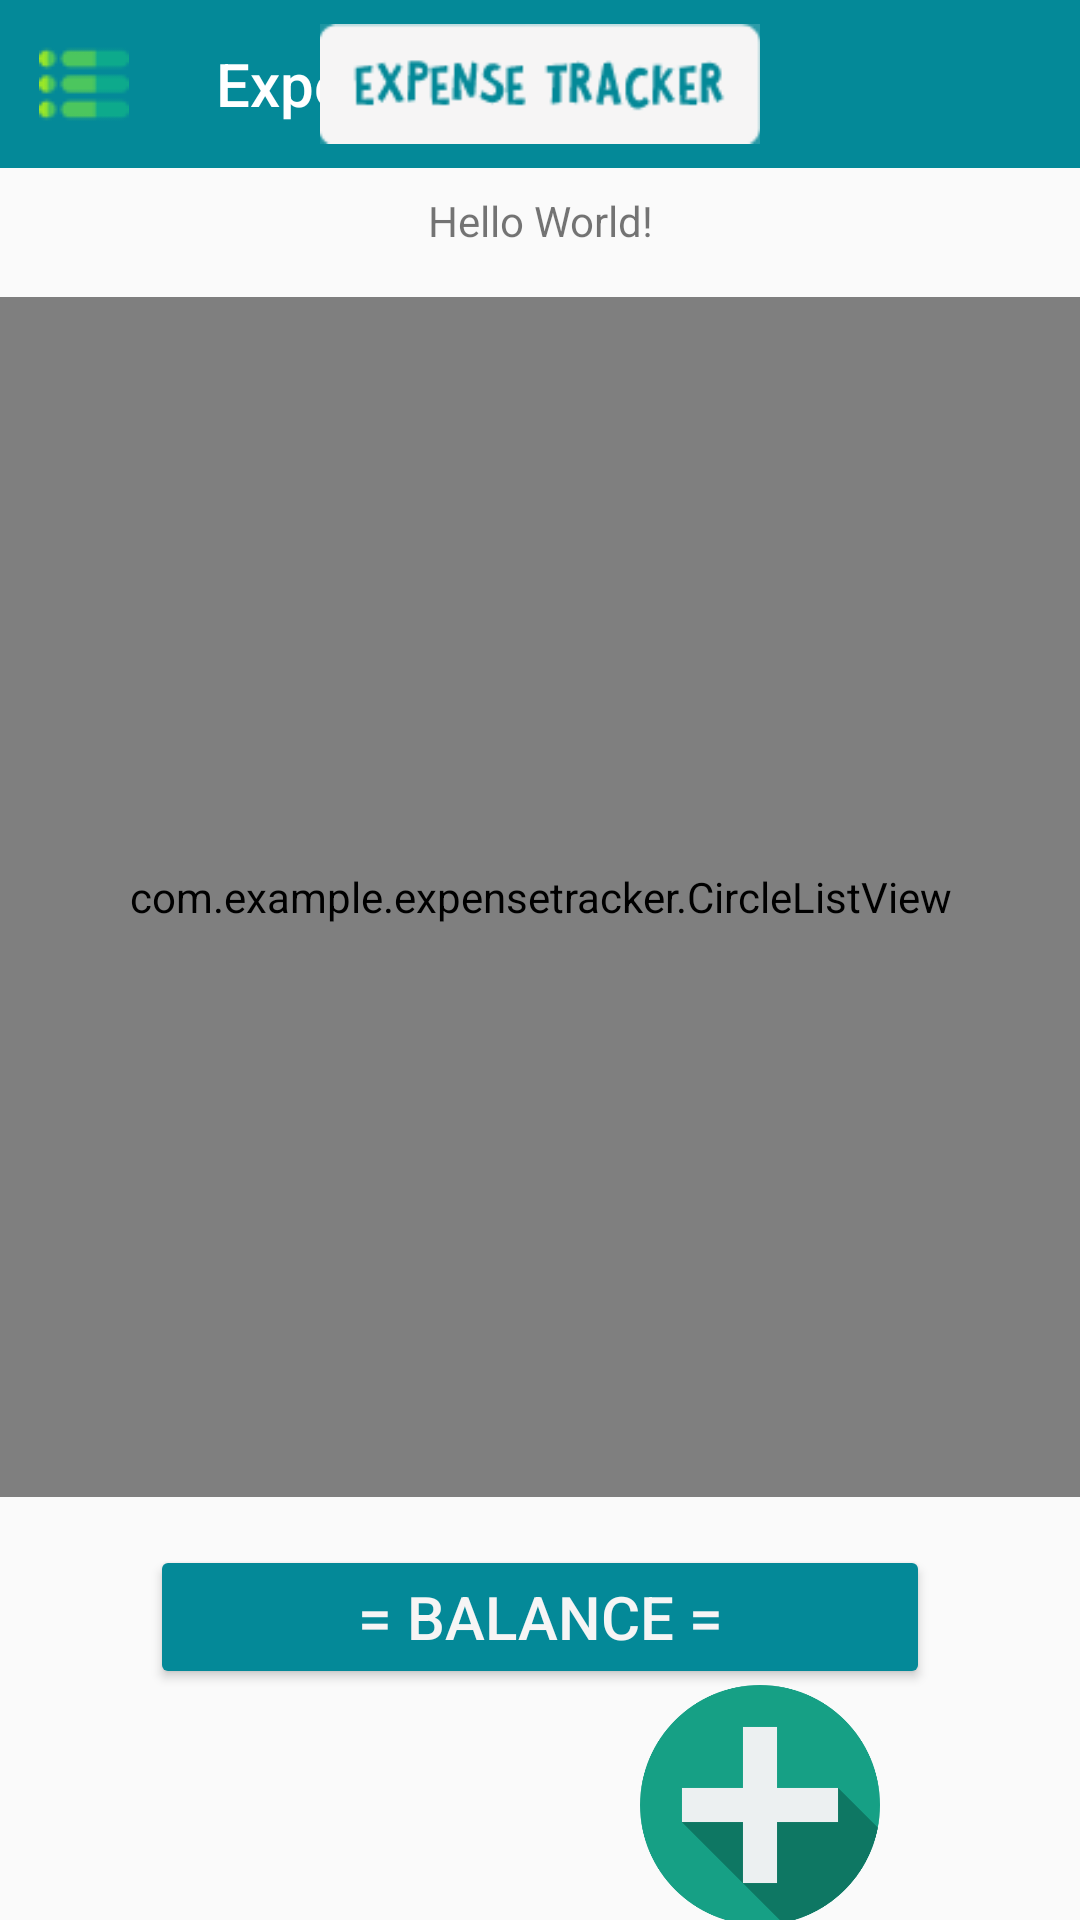

Named icons in this screenshot (1080px×1920px) and their bounding boxes, box(x1, y1, x2, y2):
plus: box(640, 1685, 880, 1920)
